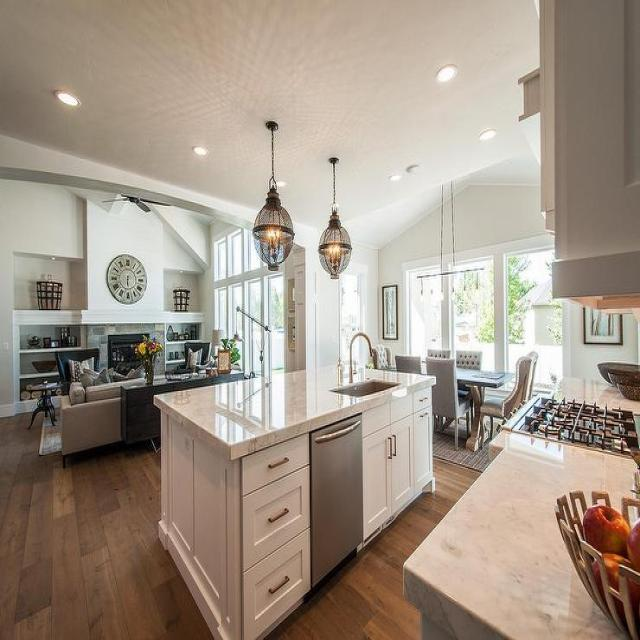dishwasher: (309, 407, 368, 592)
